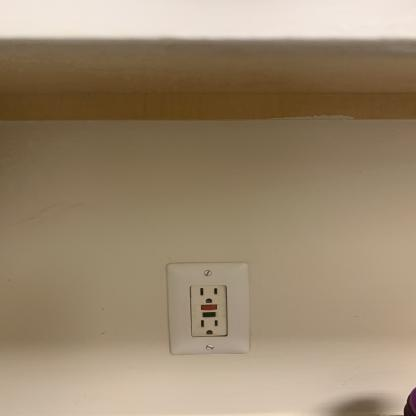OUTLET: (166, 262, 251, 354)
